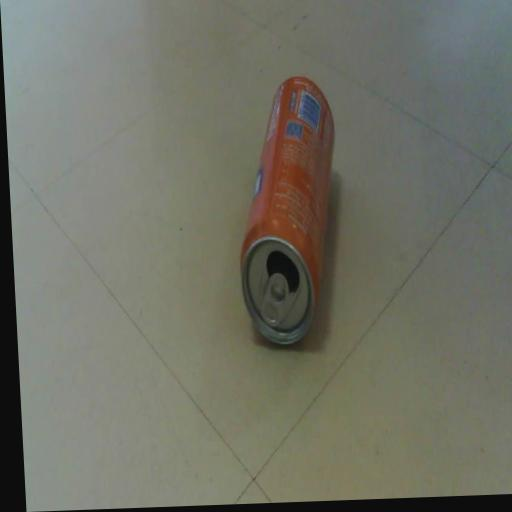canned: (211, 60, 355, 369)
